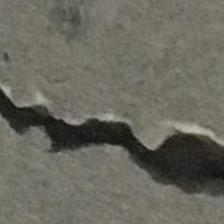Crack: (0, 22, 221, 224)
